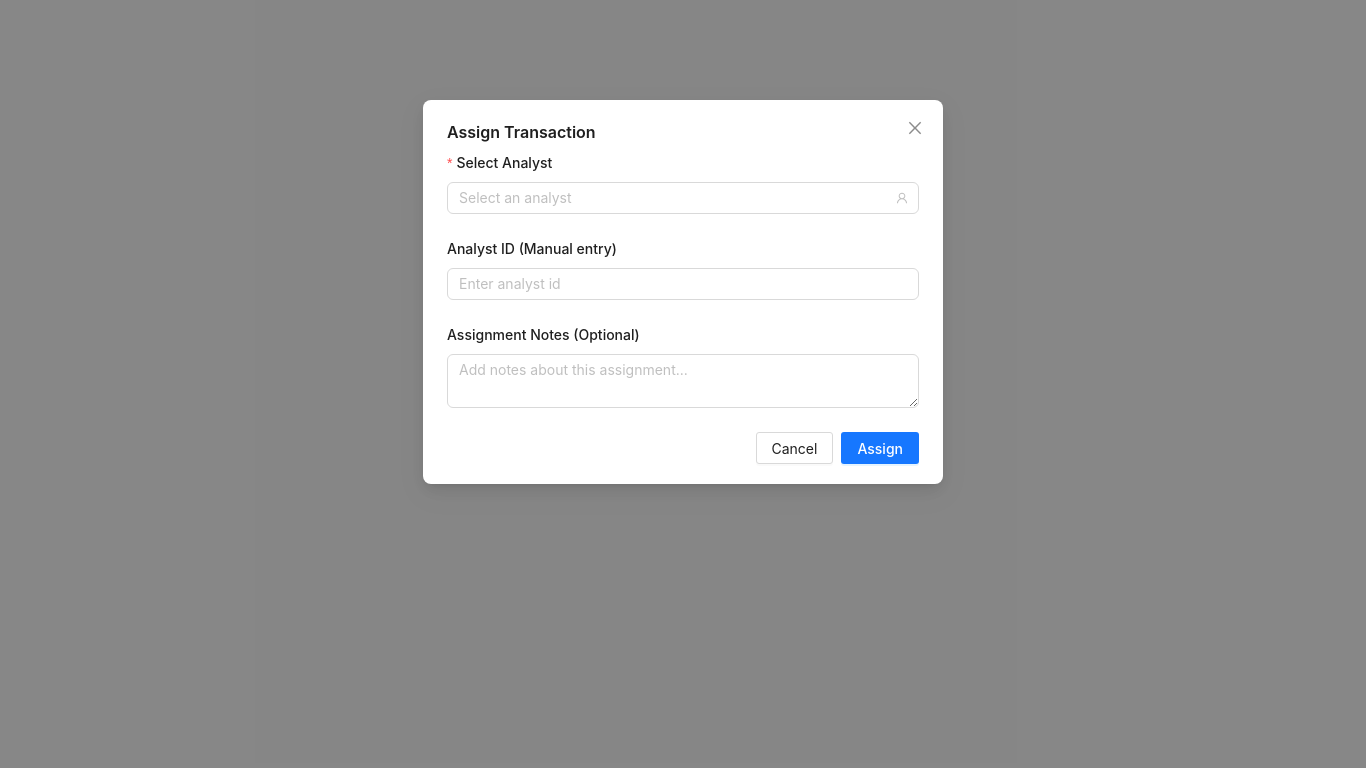
Test: AssignAnalystModal › Analyst list › displays all mock analysts in dropdown
Press the mouse on the dropdown: coordinates (674, 198) [459,183,889,213]
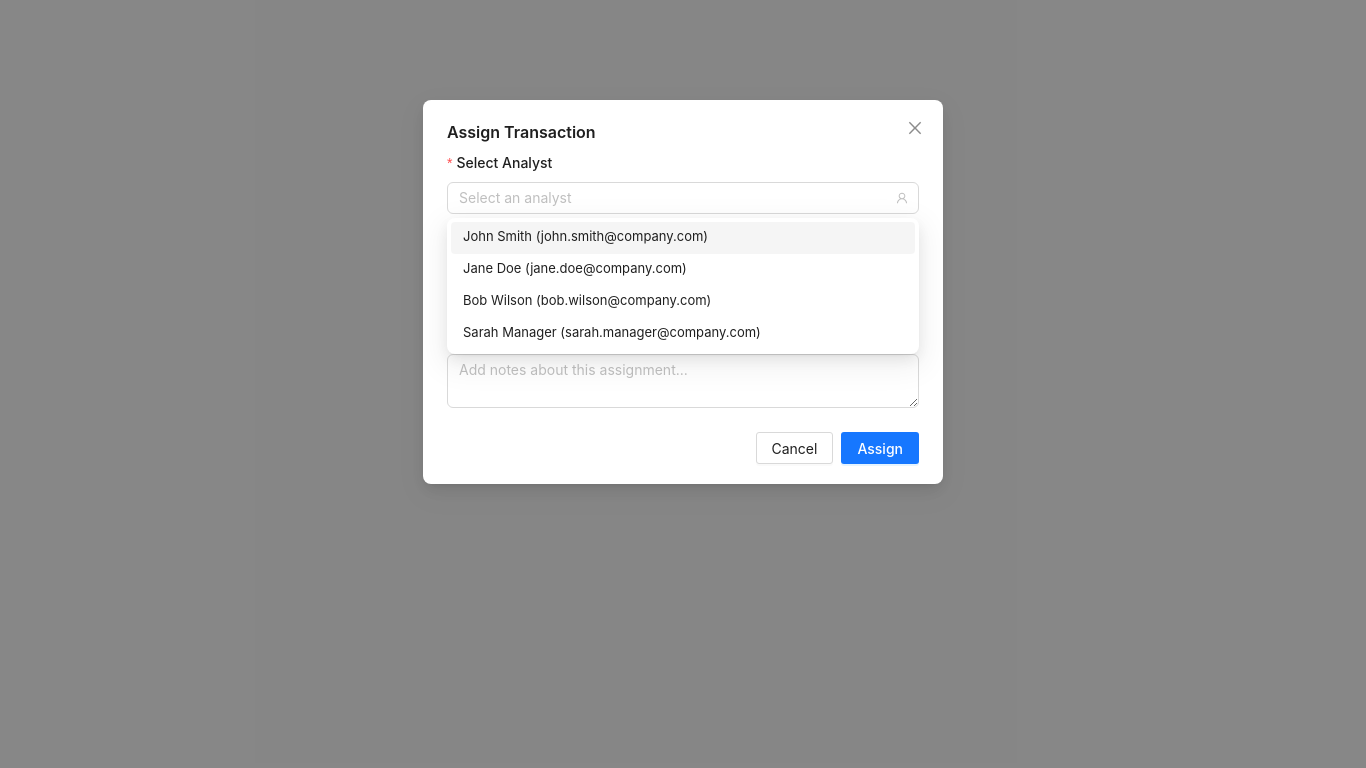
Now the text "John Smith (john.smith@company.com)" is shown, box [463,228,708,244]
Now the text "Jane Doe (jane.doe@company.com)" is shown, box [463,260,687,276]
Now the text "Bob Wilson (bob.wilson@company.com)" is shown, box [463,292,711,308]
